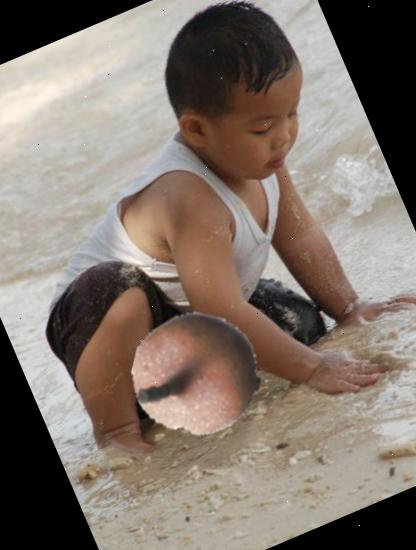Granadilla: (112, 290, 280, 458)
